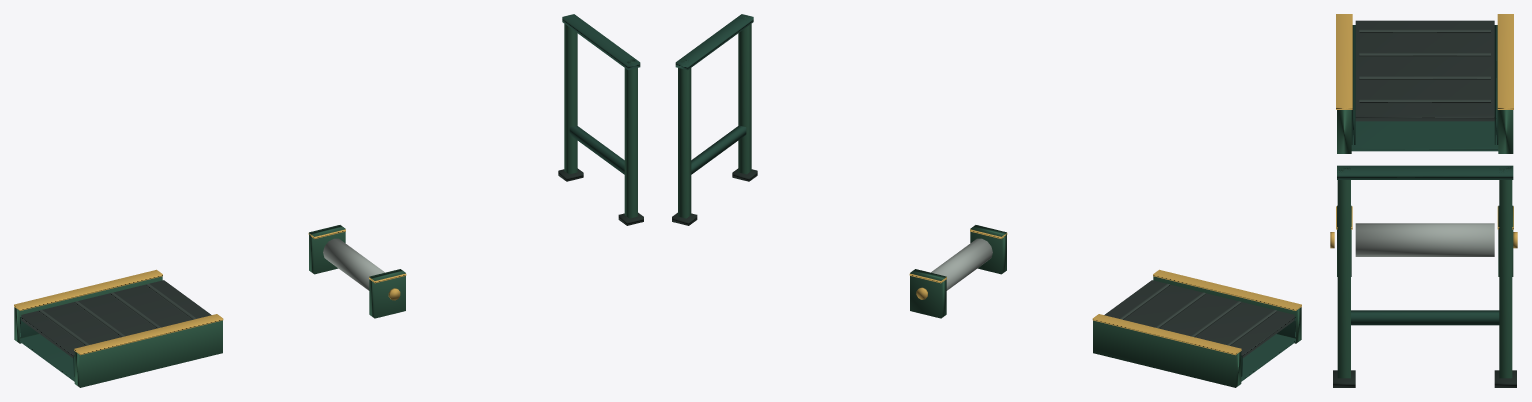
Rendered from conveyor_parts.glb.
3 renders of one model, left to right at view 1: azimuth 30°, elevation 25°; view 2: azimuth 150°, elevation 25°; view 3: azimuth 270°, elevation 25°, orthographic. The views are drawn at different scales.
Visible parts, largest first — view 1: SecBelt, SecChannel-1, LegPost-1, LegPost1, EndPlate-1, EndDrum, SecLip-1, SecLip1, LegCap, SecTray, EndPlate1, SecChannel1 (+1 smaller); view 2: SecBelt, SecChannel1, LegPost1, LegPost-1, EndDrum, EndPlate1, SecLip1, SecLip-1, LegCap, SecTray, EndPlate-1, SecChannel-1 (+1 smaller); view 3: SecBelt, EndDrum, SecTray, LegPost1, LegPost-1, LegCap, LegBrace, SecLip1, SecLip-1, SecChannel1, SecChannel-1, SecCleat0 (+8 smaller).
Boxes of the visible parts, left/top/right/bottom form: SecBelt: left=21, top=280, right=211, bottom=357; SecChannel-1: left=74, top=320, right=222, bottom=387; LegPost-1: left=624, top=59, right=637, bottom=218; LegPost1: left=564, top=16, right=577, bottom=174; EndPlate-1: left=369, top=269, right=405, bottom=318; EndDrum: left=323, top=238, right=384, bottom=290; SecLip-1: left=74, top=314, right=223, bottom=355; SecLip1: left=14, top=269, right=162, bottom=310; LegCap: left=562, top=14, right=640, bottom=70; SecTray: left=20, top=334, right=74, bottom=381; EndPlate1: left=309, top=225, right=345, bottom=274; SecChannel1: left=14, top=276, right=162, bottom=343; SecBelt: left=1104, top=280, right=1294, bottom=357; SecChannel1: left=1093, top=320, right=1241, bottom=387; LegPost1: left=678, top=59, right=691, bottom=218; LegPost-1: left=738, top=15, right=751, bottom=174; EndDrum: left=931, top=238, right=992, bottom=290; EndPlate1: left=910, top=269, right=946, bottom=318; SecLip1: left=1092, top=314, right=1241, bottom=355; SecLip-1: left=1153, top=269, right=1301, bottom=310; LegCap: left=675, top=14, right=753, bottom=70; SecTray: left=1241, top=334, right=1295, bottom=381; EndPlate-1: left=970, top=225, right=1006, bottom=274; SecChannel-1: left=1153, top=276, right=1301, bottom=343; SecBelt: left=1355, top=20, right=1494, bottom=121; EndDrum: left=1355, top=223, right=1494, bottom=256; SecTray: left=1351, top=121, right=1498, bottom=151; LegPost1: left=1499, top=166, right=1512, bottom=378; LegPost-1: left=1337, top=166, right=1350, bottom=378; LegCap: left=1337, top=165, right=1513, bottom=179; LegBrace: left=1351, top=310, right=1499, bottom=325; SecLip1: left=1497, top=14, right=1513, bottom=109; SecLip-1: left=1336, top=14, right=1352, bottom=109; SecChannel1: left=1498, top=110, right=1513, bottom=153; SecChannel-1: left=1337, top=110, right=1351, bottom=153; SecCleat0: left=1359, top=29, right=1490, bottom=33.
Size of the model in its own units: 2.33 by 0.7589 by 0.5034.
